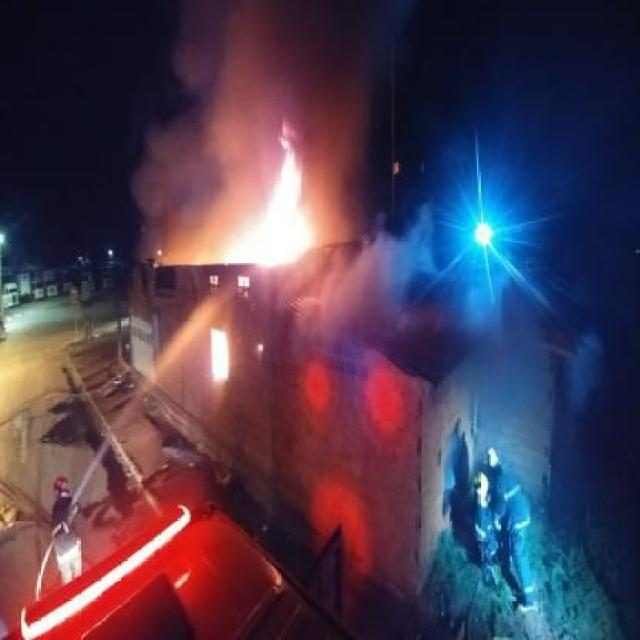Fire: (220, 129, 320, 271), (212, 329, 230, 382)
